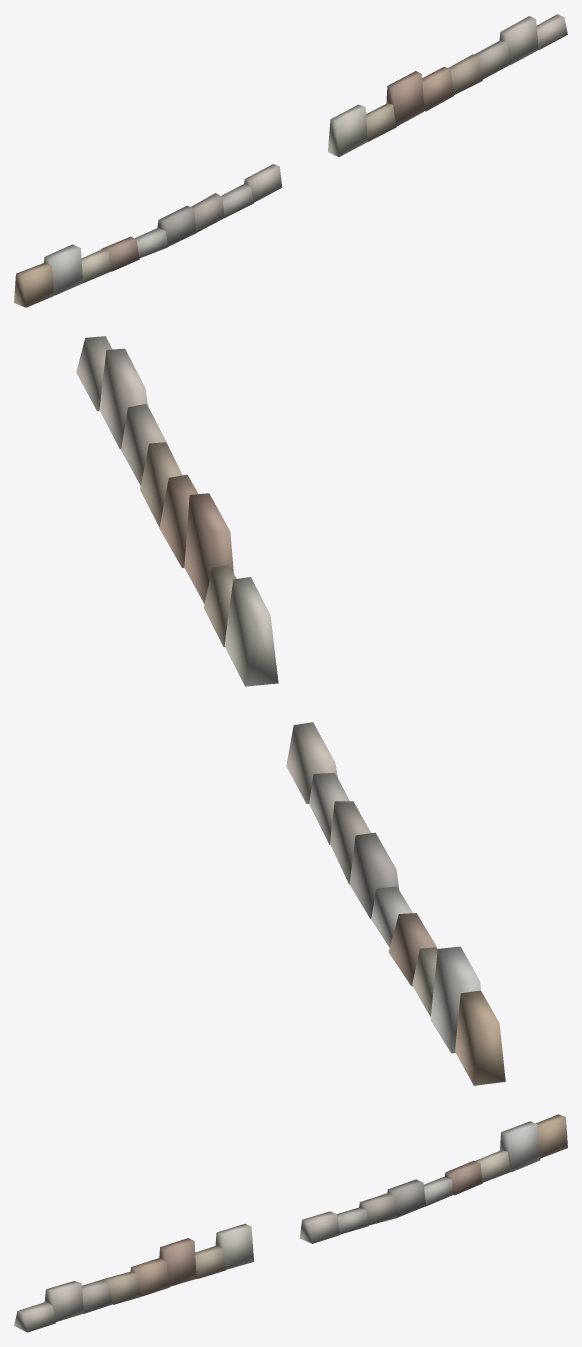
The model's file is farm_-9_-1_far.glb.
The picture shows the model from 3 angles, top to bottom: view 1: azimuth 90°, elevation 25°; view 2: azimuth 150°, elevation 25°; view 3: azimuth 270°, elevation 25°; orthographic projection. The views are drawn at different scales.
Parts seen in each view (by area): view 1: geometry_0; view 2: geometry_0; view 3: geometry_0.
Part boxes in pixels (left/top/right/bottom): geometry_0: left=14, top=14, right=567, bottom=307; geometry_0: left=76, top=336, right=505, bottom=1085; geometry_0: left=14, top=1114, right=567, bottom=1332.
Bounding box in the file's own units: 20.85 × 2.99 × 20.89.
